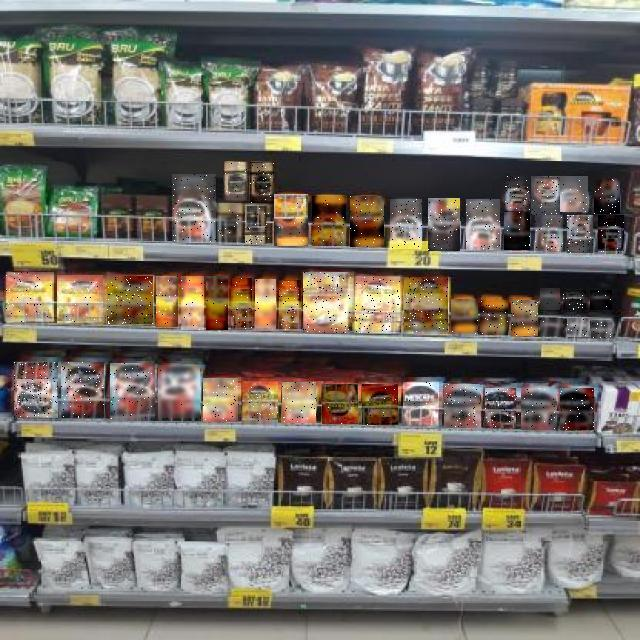Coffee: (172, 175, 216, 243), (304, 272, 352, 333), (355, 276, 400, 333), (110, 364, 155, 420), (404, 278, 448, 334), (14, 362, 58, 418), (61, 362, 104, 418), (6, 272, 54, 322), (158, 366, 200, 420), (57, 275, 103, 323), (107, 276, 153, 324), (275, 194, 309, 246), (350, 196, 384, 247), (466, 199, 500, 250), (312, 196, 346, 246), (428, 198, 460, 251), (404, 382, 442, 426), (390, 199, 422, 249), (204, 378, 240, 422), (445, 384, 481, 428), (242, 382, 278, 424), (362, 384, 398, 425), (322, 384, 358, 424), (522, 388, 556, 430), (561, 388, 595, 430), (282, 382, 316, 423), (486, 389, 520, 429), (181, 276, 204, 330), (206, 276, 228, 330), (531, 176, 560, 215), (157, 276, 179, 327), (279, 280, 301, 331), (231, 278, 252, 330), (255, 280, 276, 330), (560, 177, 588, 213), (535, 215, 563, 251), (504, 174, 530, 212), (505, 213, 531, 251), (567, 215, 593, 253), (598, 216, 624, 254), (251, 162, 275, 203), (480, 300, 508, 335), (451, 300, 478, 336), (511, 301, 538, 337), (594, 178, 620, 214), (246, 205, 270, 244), (217, 204, 241, 242), (224, 162, 247, 200), (563, 290, 586, 310), (540, 288, 560, 310), (591, 290, 613, 310), (567, 318, 590, 337), (540, 318, 563, 336), (592, 320, 612, 338)
